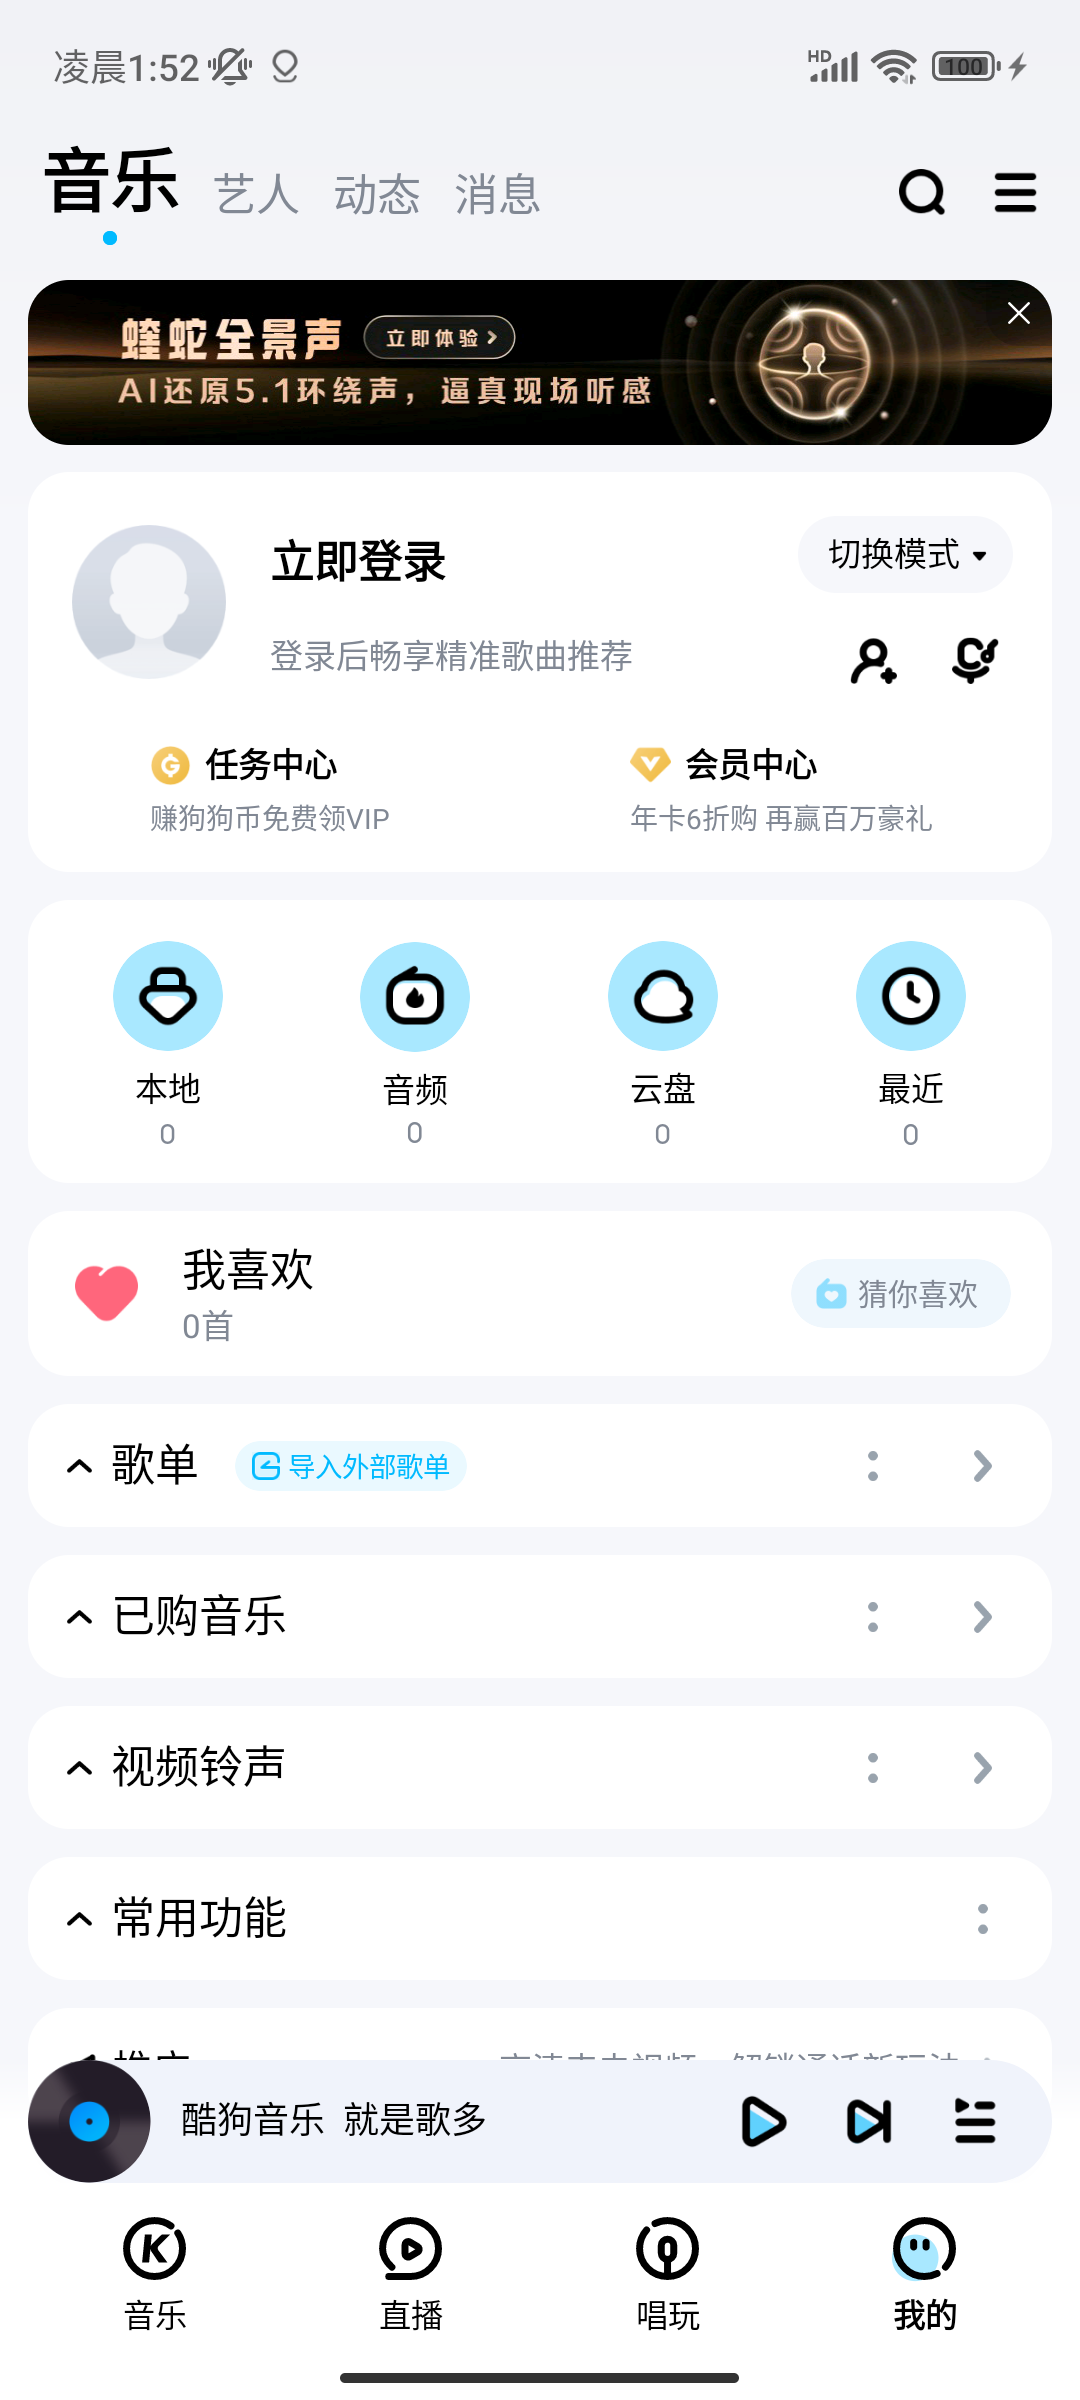ui_group: (28, 280, 1056, 455), (60, 501, 702, 706), (28, 1405, 1059, 1532), (29, 1707, 1054, 1832), (31, 1852, 1054, 1974), (29, 1558, 1057, 1678), (119, 722, 447, 862), (610, 722, 958, 849), (89, 918, 265, 1157), (577, 920, 743, 1162), (847, 921, 1010, 1168), (337, 917, 490, 1166)
